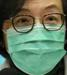with_mask: (2, 2, 67, 75)
